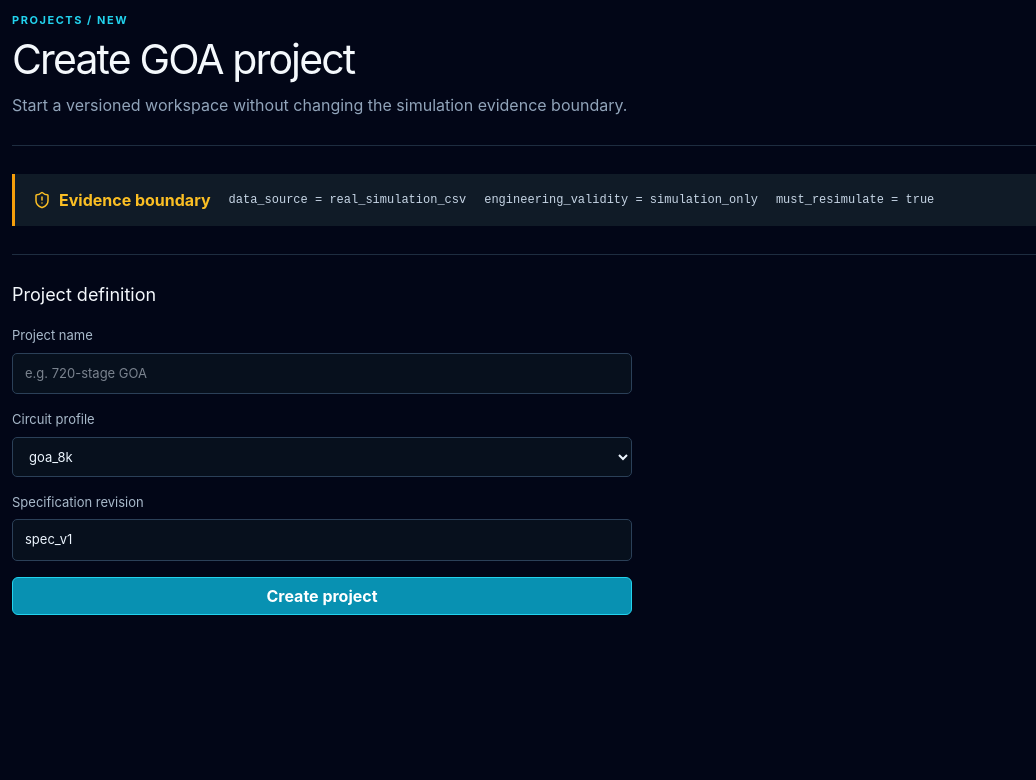
Test: creates a project through the Product API
Type "GOA Alpha" into the field labelled "Project name". click: (322, 374)
box: [12, 353, 632, 394]
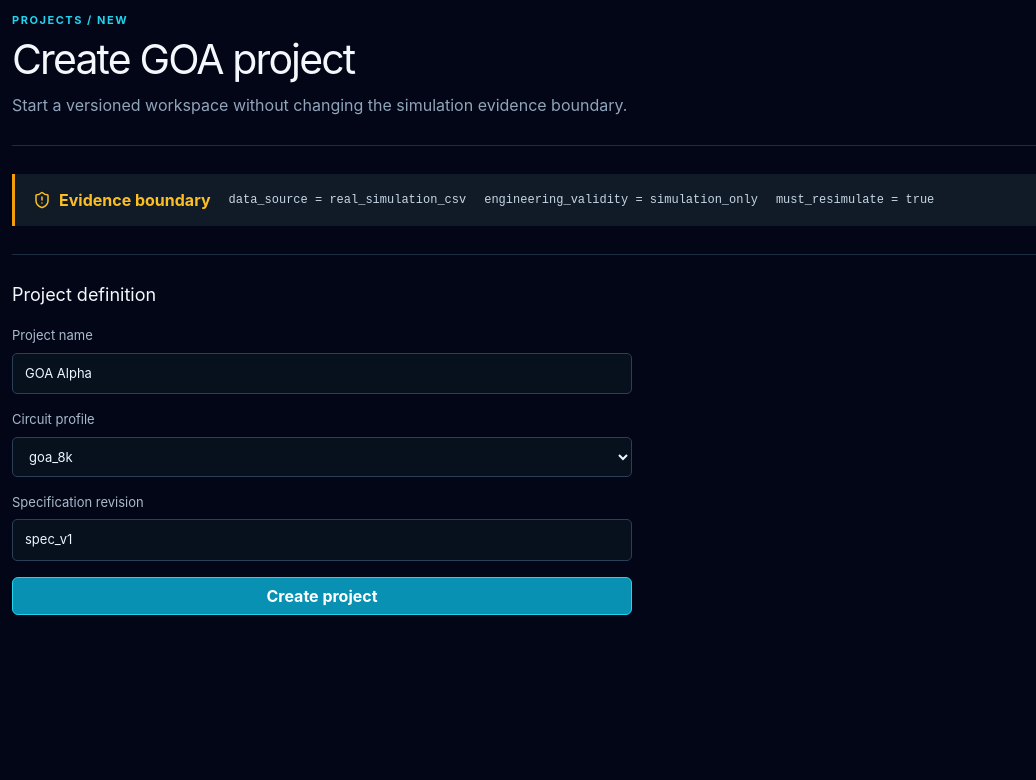
Click the button "Create project". click: (322, 596)
box: [12, 577, 632, 615]
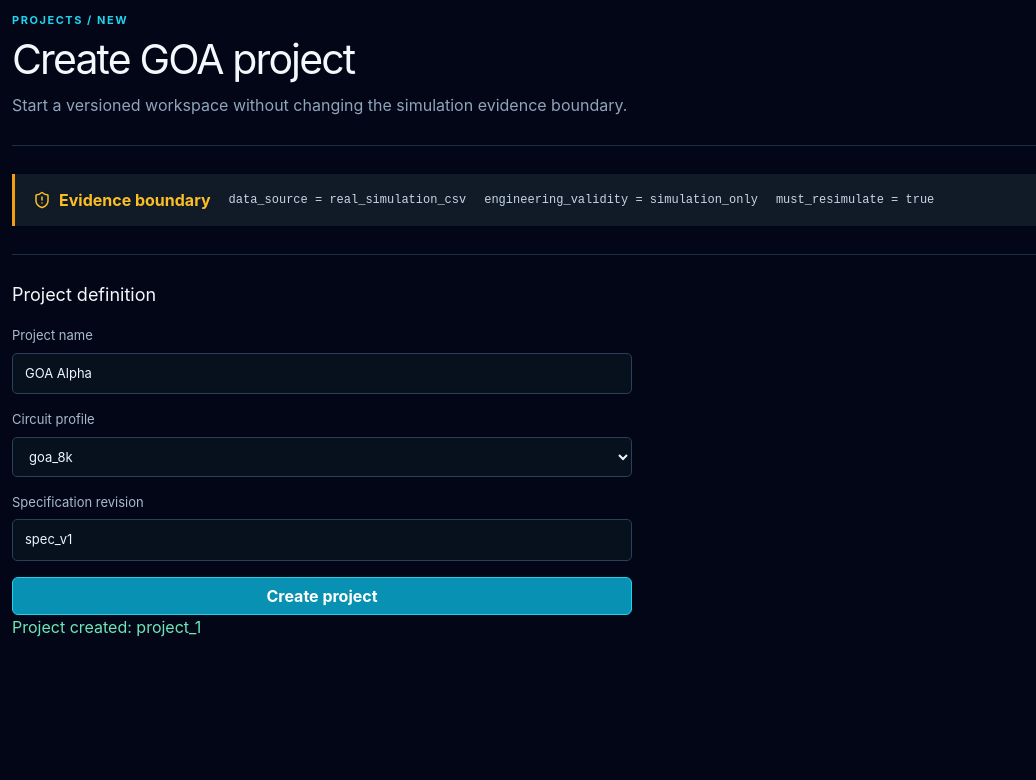
Check: the text "Project created: project_1" is shown, box [12, 617, 201, 637]
